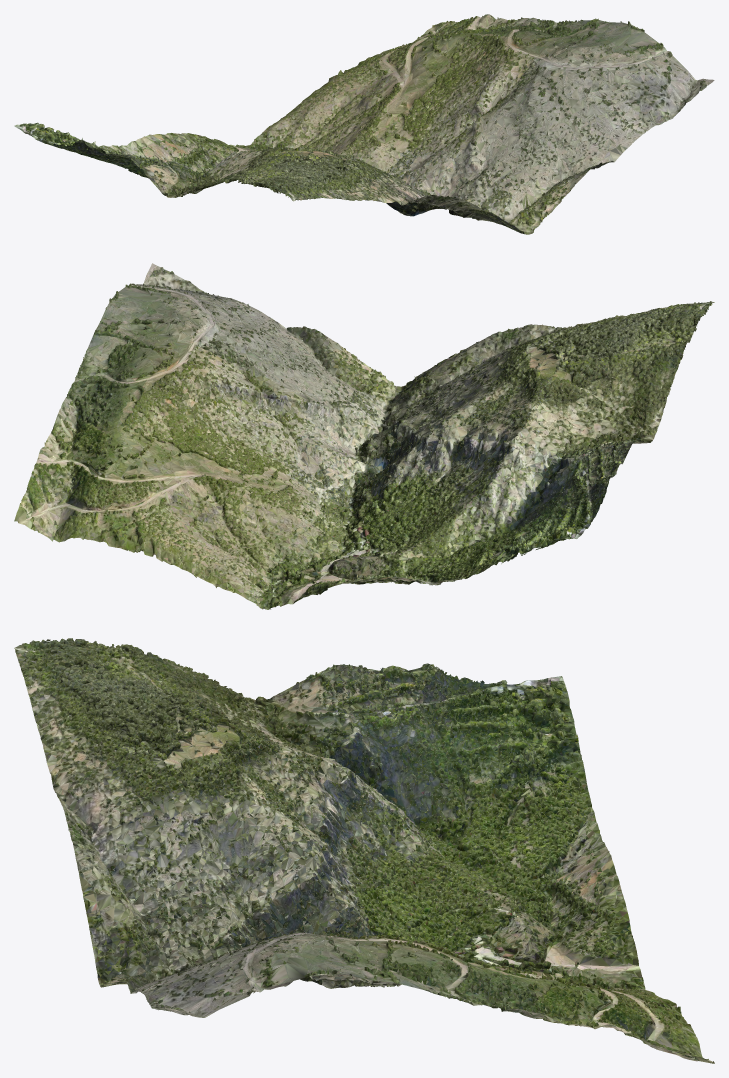
The picture shows the model from 3 angles, top to bottom: view 1: azimuth 30°, elevation 25°; view 2: azimuth 150°, elevation 25°; view 3: azimuth 270°, elevation 25°; orthographic projection. The views are drawn at different scales.
Visible parts, largest first — view 1: tomara; view 2: tomara; view 3: tomara.
Part boxes in pixels (x1,y1,x2,y2): tomara: (14,14,714,234); tomara: (14,263,714,609); tomara: (14,638,714,1063).
Bounding box in the file's own units: 1217 × 358 × 1003.
Materials: 10 (10 with a texture image).
